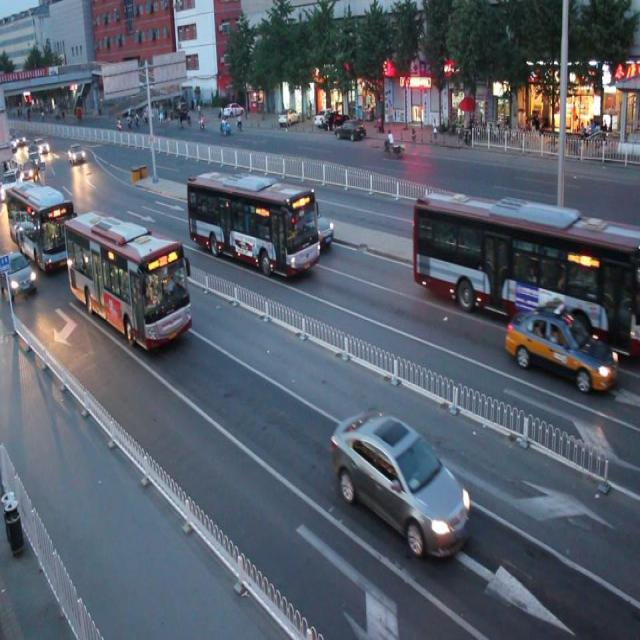car: (327, 409, 469, 557), (504, 308, 618, 394), (279, 202, 332, 250)
van: (412, 188, 640, 350), (63, 208, 193, 354), (186, 169, 319, 280)
